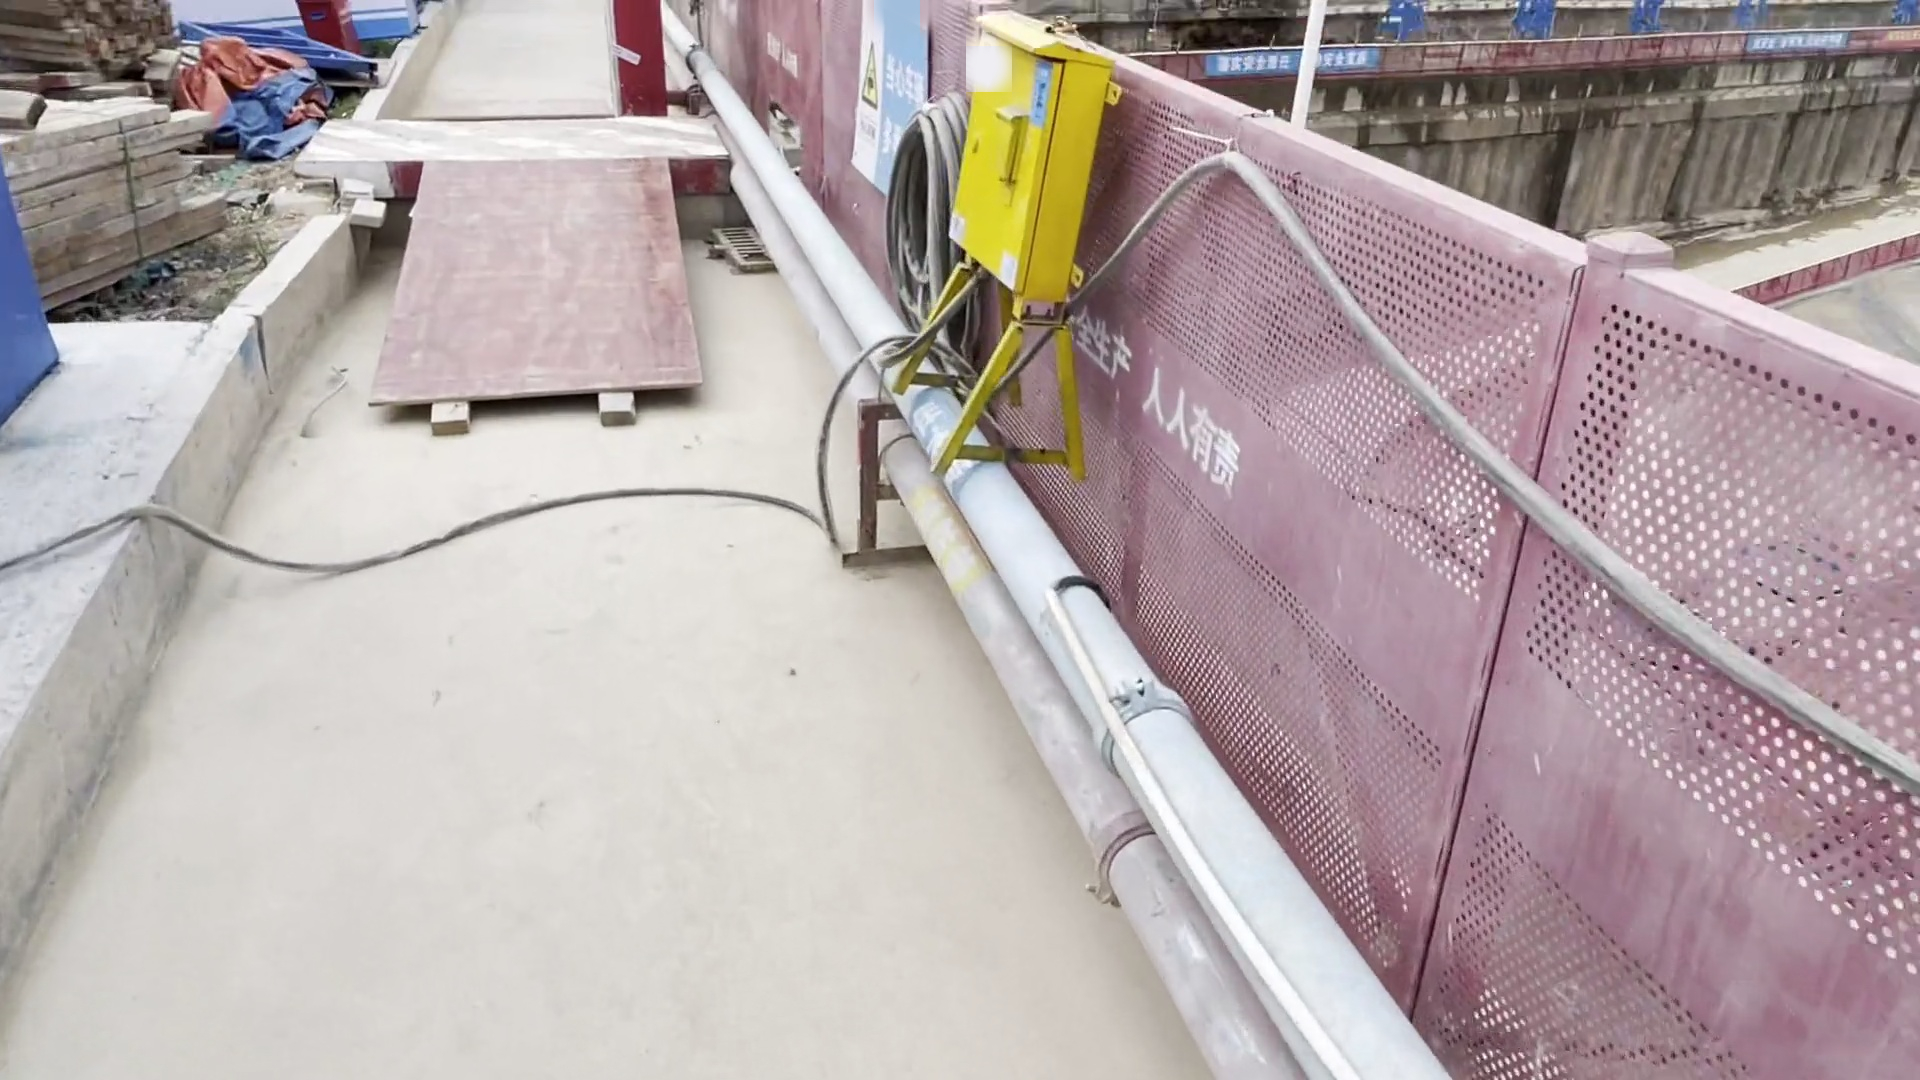board: (375, 148, 725, 436)
ebox: (881, 1, 1131, 505)
fence: (1196, 113, 1920, 1077)
